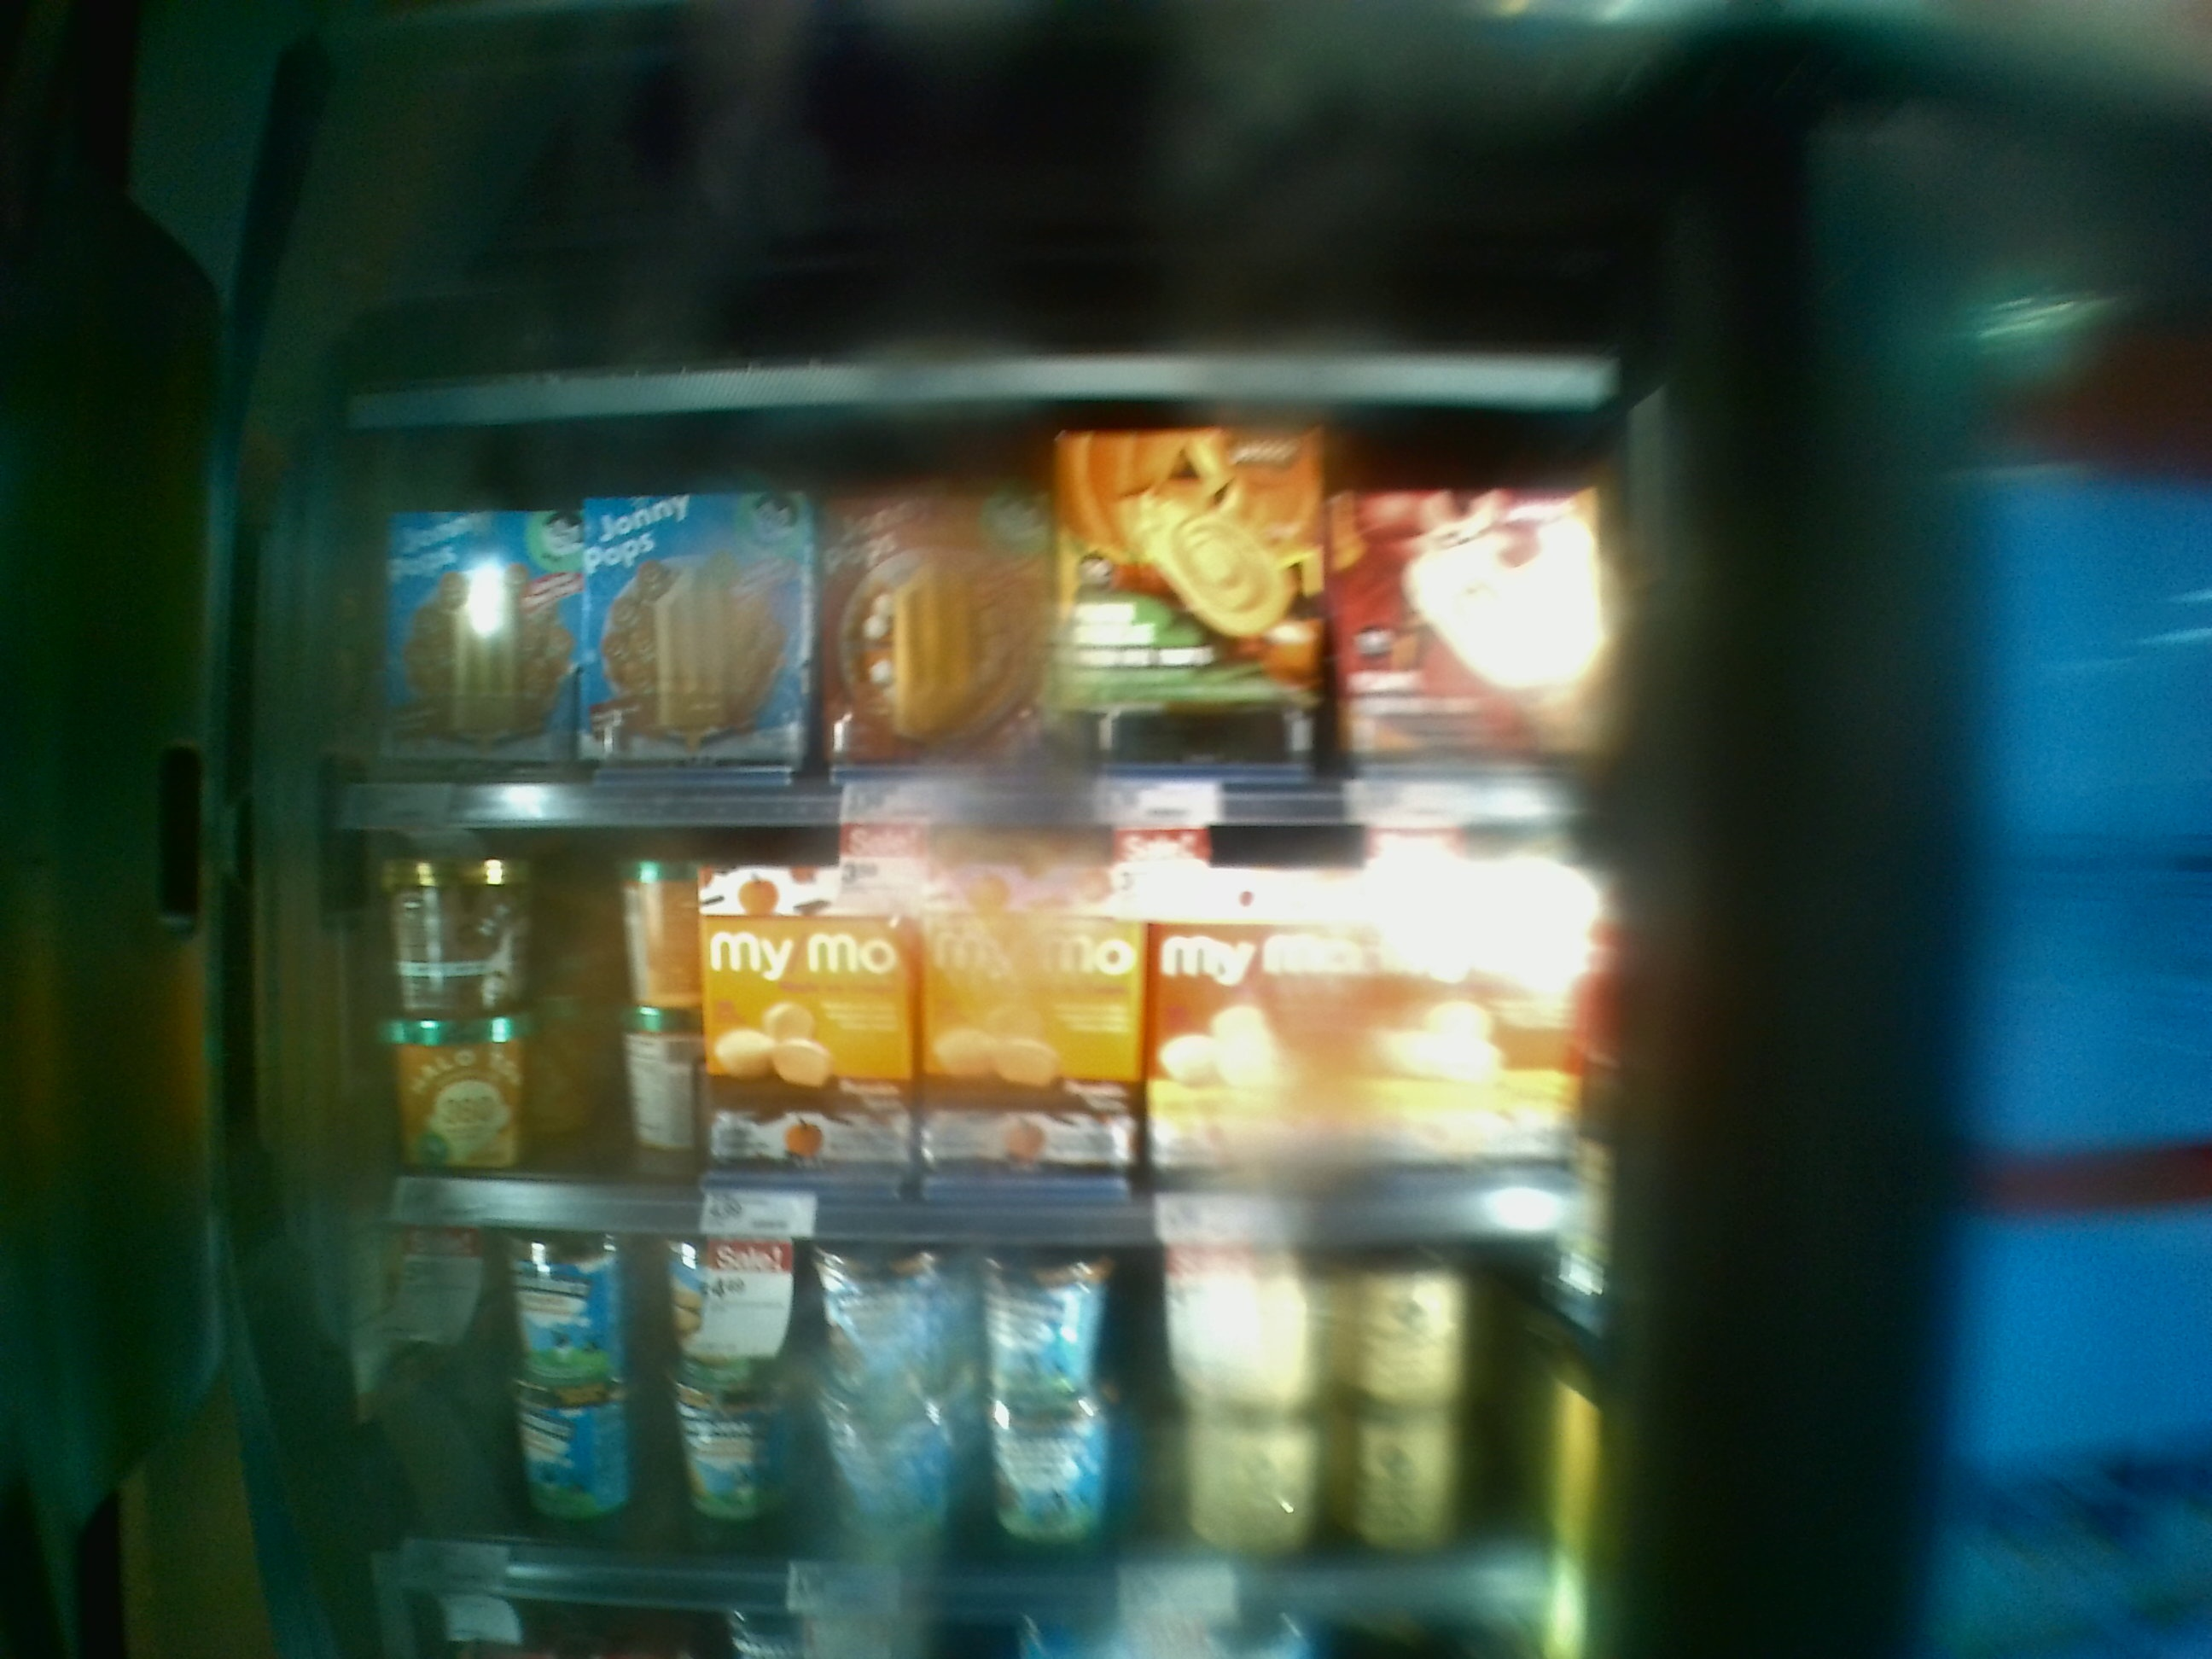shelf: (322, 817, 1622, 1243), (324, 416, 1655, 823), (340, 1220, 1608, 1626)
